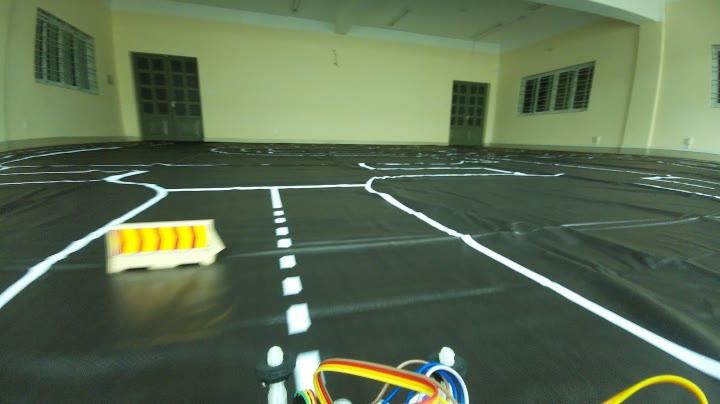roadblock: (102, 220, 218, 274)
